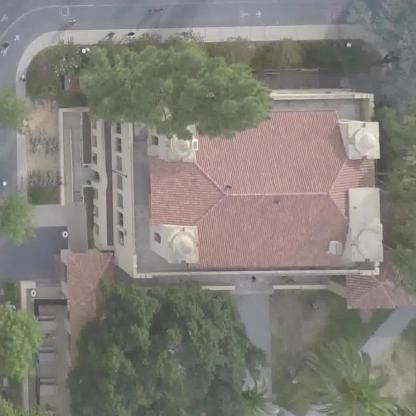Bicyclist: (0, 34, 13, 56)
Pedestrian: (100, 28, 119, 46), (15, 71, 28, 87), (122, 31, 139, 43)
Skateboarder: (144, 1, 173, 18), (63, 16, 85, 31)
